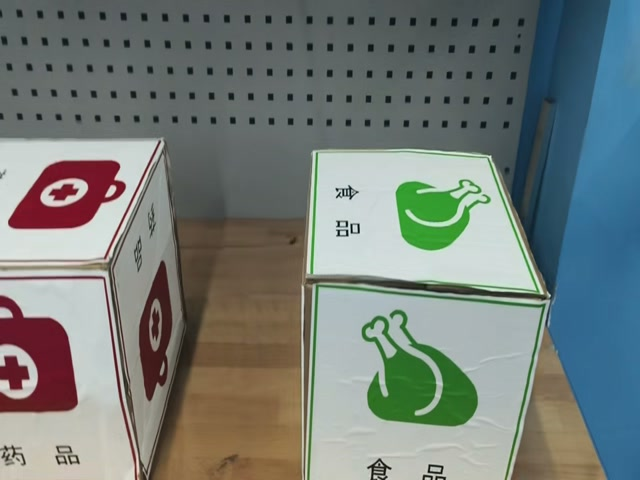Cube_food: (303, 151, 542, 300)
Cube_medicine: (0, 140, 164, 279)
